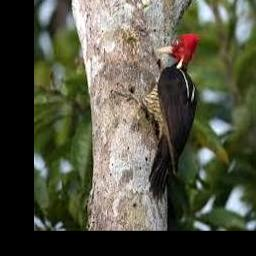Woodpecker: (114, 32, 200, 200)
